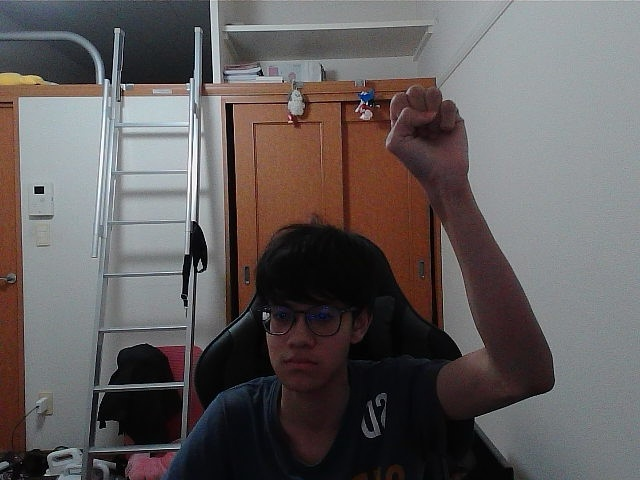closed_palm: (397, 90, 453, 170)
